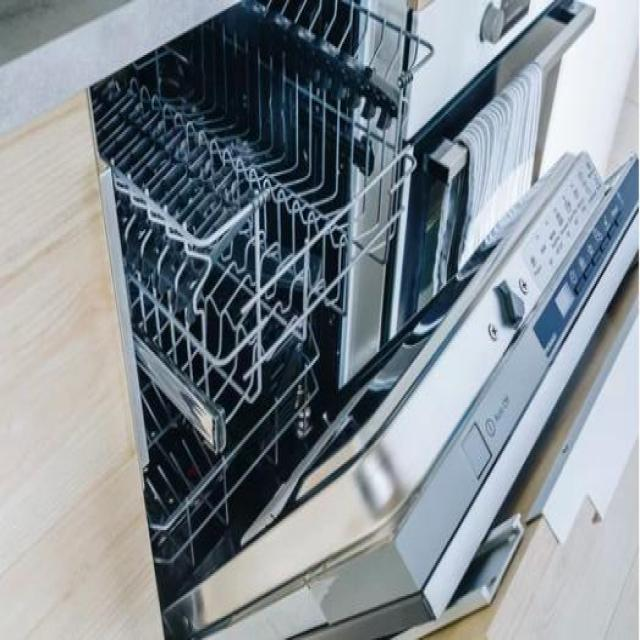dishwasher: (85, 0, 639, 638)
